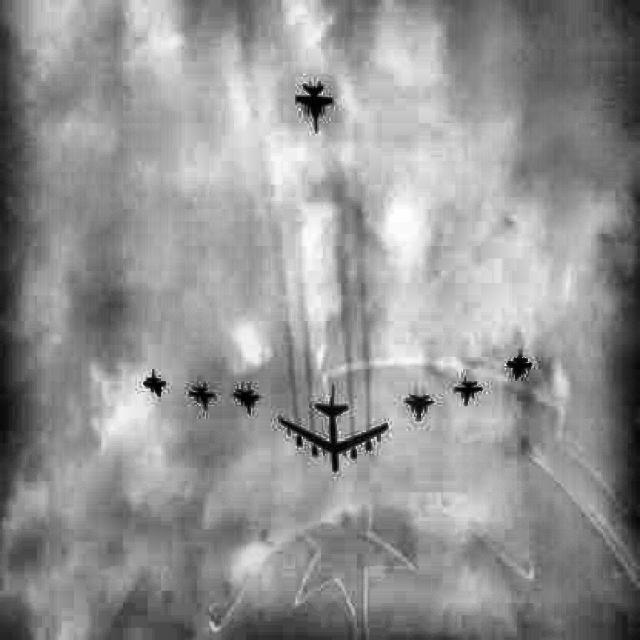B52: (278, 382, 388, 473)
F15: (404, 384, 434, 422), (232, 380, 260, 415)
F16: (507, 345, 531, 381), (143, 368, 166, 397)
F18: (295, 78, 334, 134), (454, 375, 481, 407), (189, 382, 216, 410)
